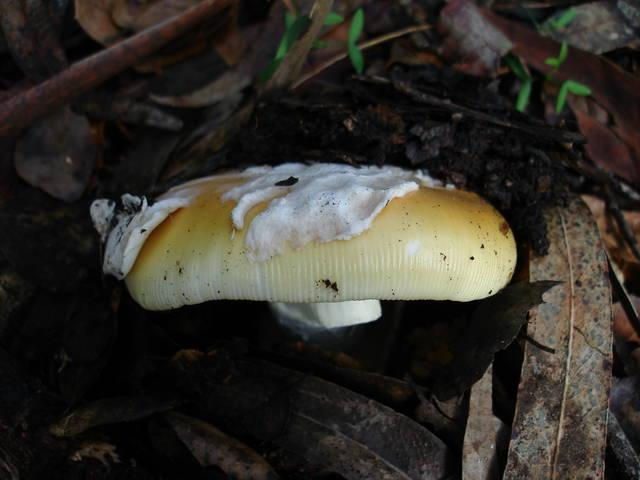edible_mushroom: (89, 159, 518, 335)
